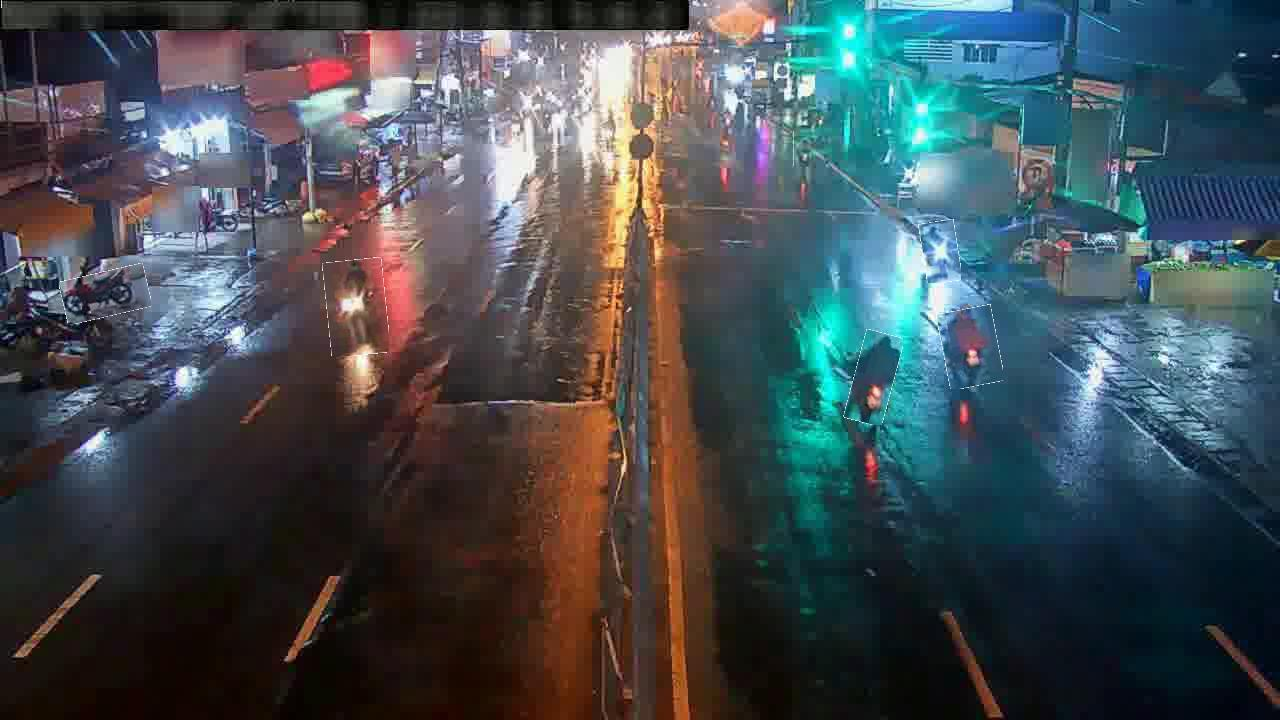motorbike: (325, 259, 388, 356), (940, 307, 1001, 388), (61, 268, 151, 321), (849, 331, 899, 425), (921, 220, 960, 283), (793, 131, 812, 167)
